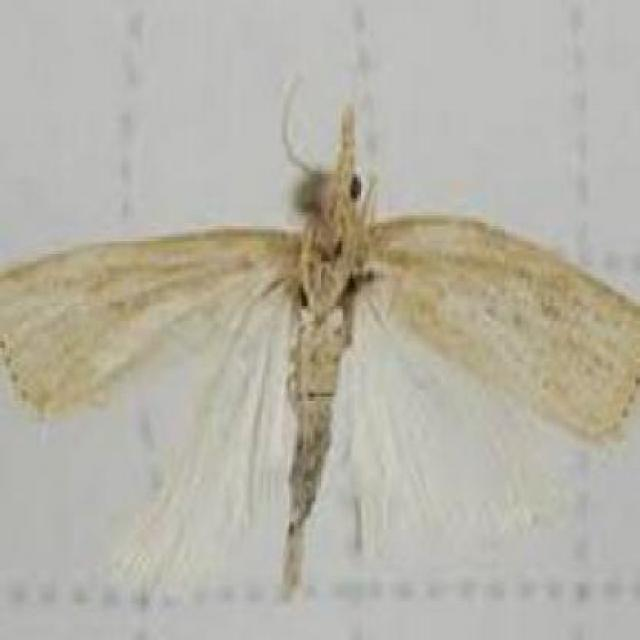stem-borer: (4, 104, 640, 577)
